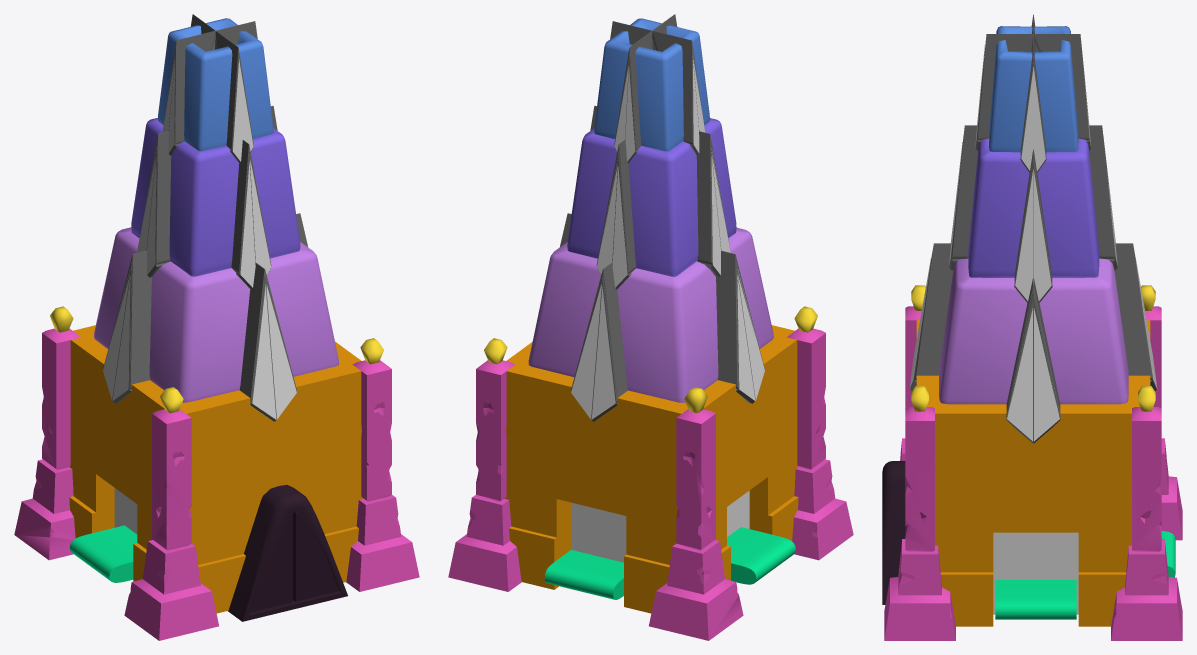
File: Main Tower LV4.fbx
3 views of the same model, side by side, from view 1: azimuth 30°, elevation 25°; view 2: azimuth 150°, elevation 25°; view 3: azimuth 270°, elevation 25° (orthographic). The views are drawn at different scales.
Parts seen in each view (by area): view 1: Plane.006; view 2: Plane.006; view 3: Plane.006.
Boxes of the visible parts, left/top/right/bottom form: Plane.006: left=14, top=14, right=419, bottom=640; Plane.006: left=448, top=14, right=853, bottom=640; Plane.006: left=882, top=14, right=1182, bottom=640.
Size of the model in its own units: 254 by 491 by 246.
